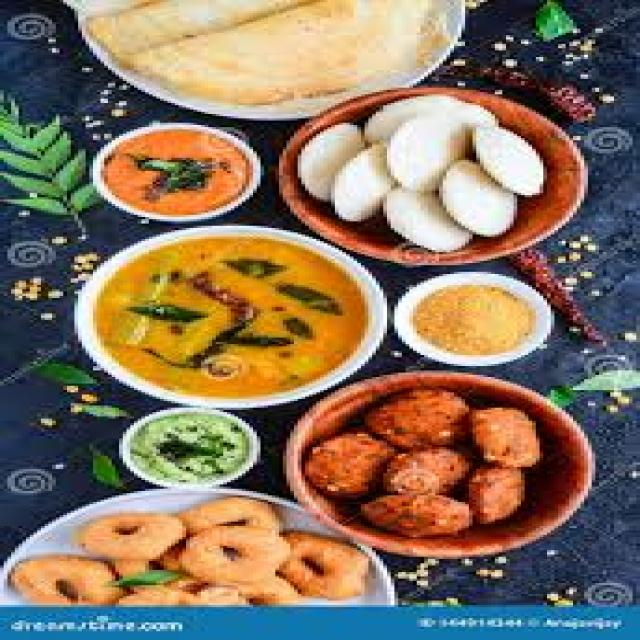DOSA: (126, 0, 454, 104), (89, 0, 316, 57)
IDLI: (363, 95, 504, 144), (372, 188, 476, 253), (388, 117, 480, 189), (439, 163, 518, 237), (296, 123, 365, 204), (468, 124, 544, 197), (331, 147, 388, 221)
MEDU VADA: (185, 527, 285, 587), (10, 556, 117, 607), (290, 536, 364, 599), (82, 513, 179, 561), (174, 496, 285, 532)
